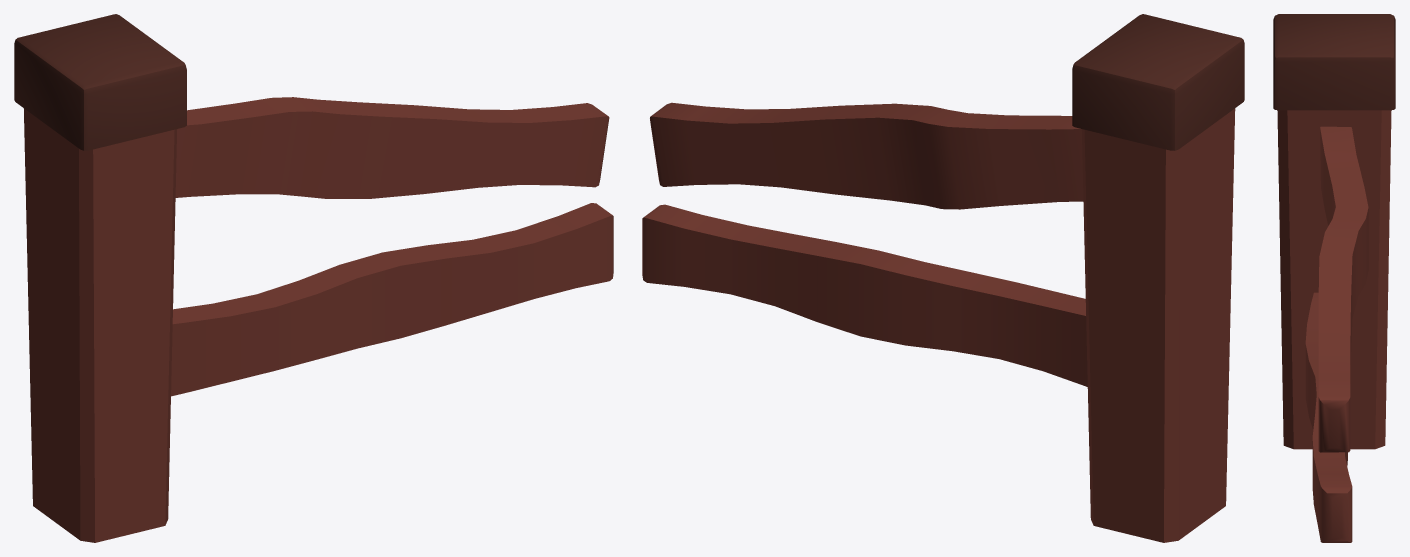
The model's file is fence04.fbx.
3 renders of one model, left to right at view 1: azimuth 30°, elevation 25°; view 2: azimuth 150°, elevation 25°; view 3: azimuth 270°, elevation 25°, orthographic. The views are drawn at different scales.
Visible parts, largest first — view 1: fence04; view 2: fence04; view 3: fence04.
Boxes of the visible parts, x1=… form: fence04: x1=14, y1=14, x2=613, y2=542; fence04: x1=642, y1=14, x2=1244, y2=542; fence04: x1=1273, y1=14, x2=1395, y2=542.
Size of the model in its own units: 1.32 by 1.04 by 0.29.
